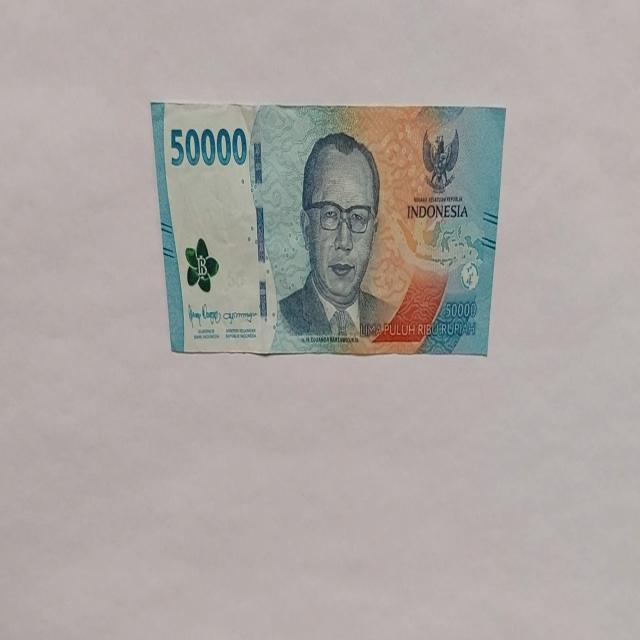lima puluh ribu rupiah: (149, 100, 506, 358), (274, 130, 396, 345)
